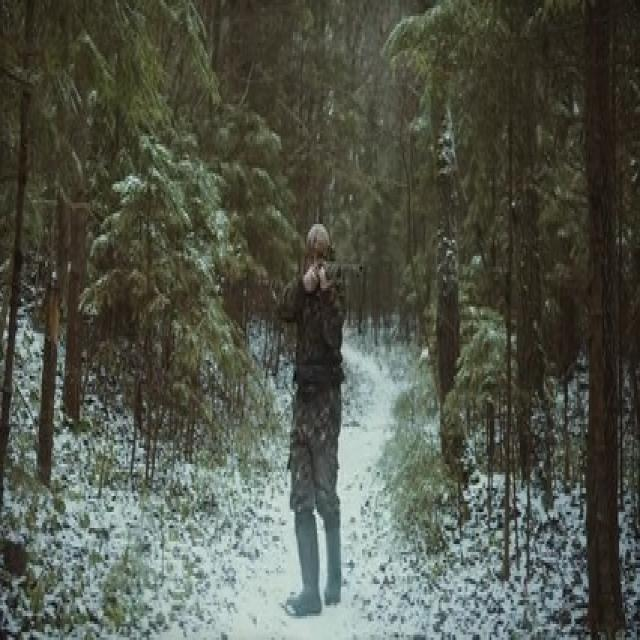Gun_Holder: (304, 258, 370, 292)
Person: (282, 222, 351, 610)
